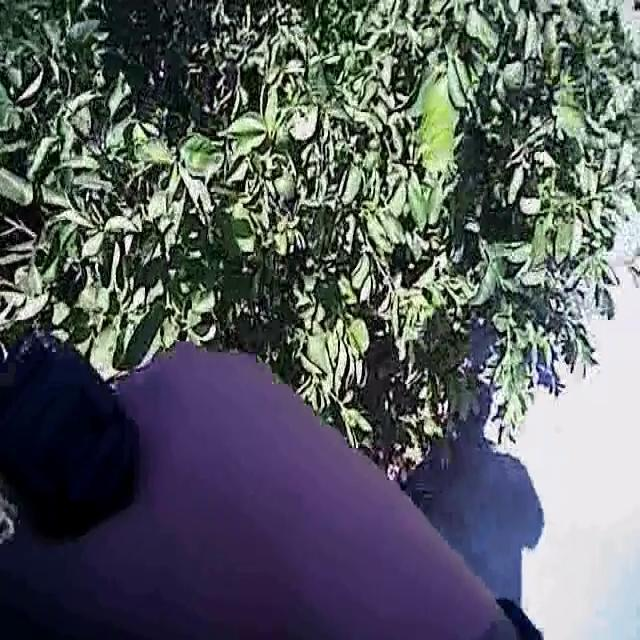gun: (0, 322, 161, 570)
